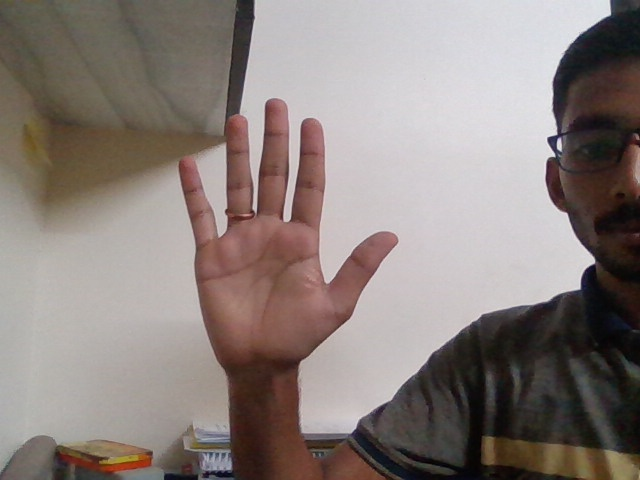Hello: (154, 81, 419, 394)
